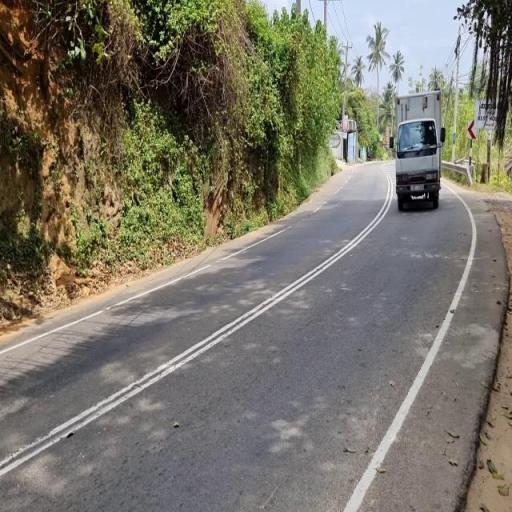double_white_line: (0, 169, 390, 484)
